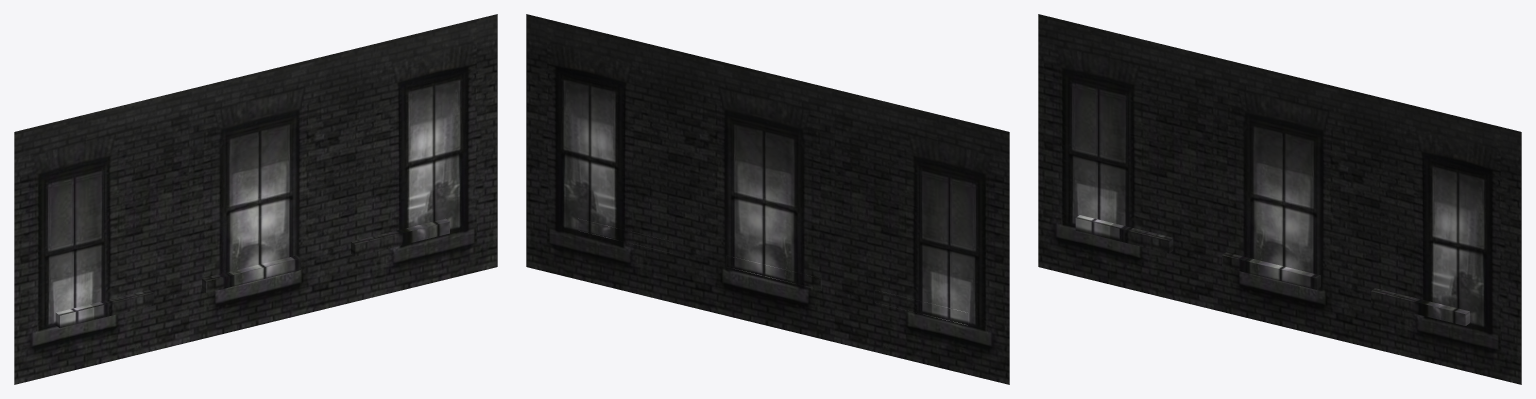
The model's file is floor.obj.
3 renders of one model, left to right at view 1: azimuth 30°, elevation 25°; view 2: azimuth 150°, elevation 25°; view 3: azimuth 330°, elevation 25°, orthographic.
Visible parts, largest first — view 1: group; view 2: group; view 3: group.
Boxes of the visible parts, x1=… form: group: x1=14, y1=14, x2=497, y2=384; group: x1=526, y1=14, x2=1009, y2=384; group: x1=1038, y1=14, x2=1521, y2=384.
Size of the model in its own units: 10 by 5 by 0.157.
